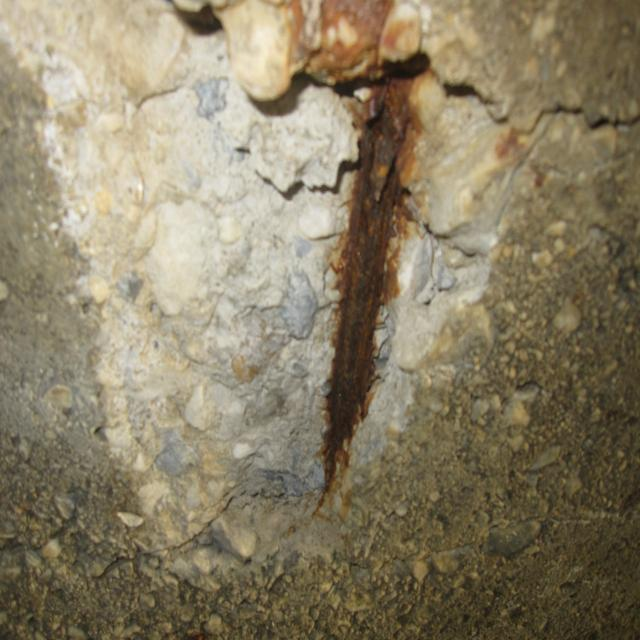corrosion: (272, 0, 461, 528)
